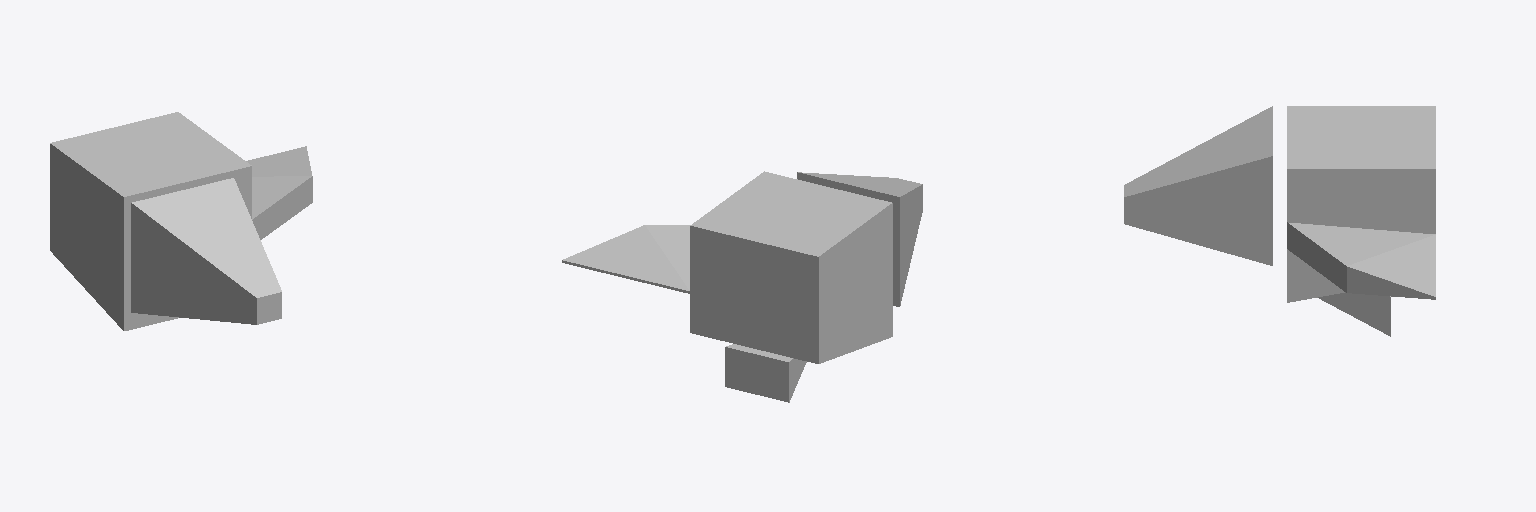
File: thing1+z-y.obj
3 views of the same model, side by side, from view 1: azimuth 30°, elevation 25°; view 2: azimuth 150°, elevation 25°; view 3: azimuth 270°, elevation 25° (orthographic).
Parts seen in each view (by area): view 1: Cube; view 2: Cube; view 3: Cube.
Boxes of the visible parts, x1,y1,x2,y2 form: Cube: [50, 112, 312, 330]; Cube: [562, 171, 922, 402]; Cube: [1124, 106, 1435, 336].
Size of the model in its own units: 1 by 0.65 by 1.05.